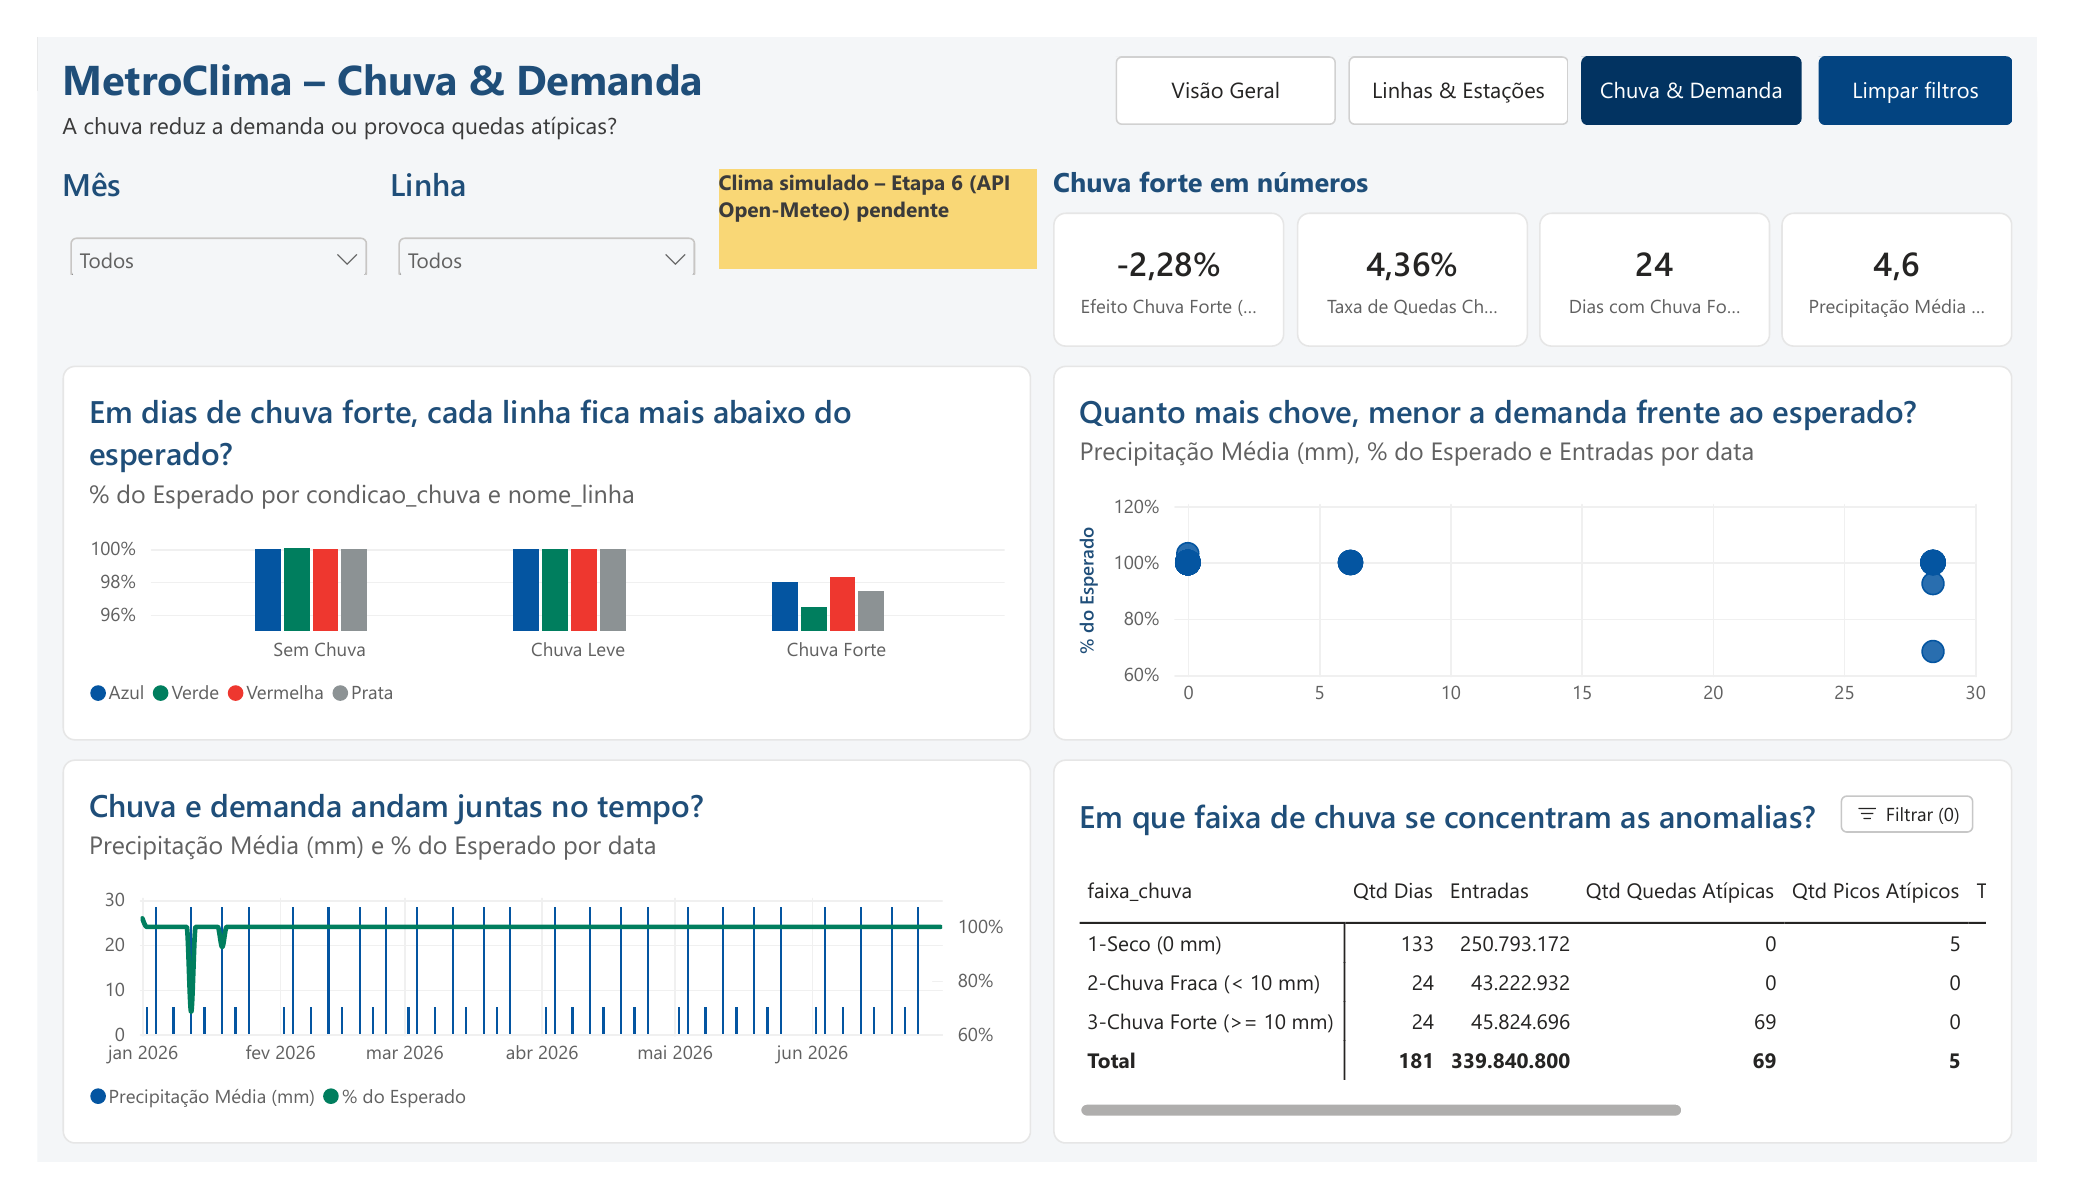

What the dashboard file says about the page in this screenshot:
{"tool":"powerbi","page":{"name":"Chuva & Demanda","canvas":[1280,720],"ordinal":2},"visuals":[{"type":"textbox","box":[16,8,640,40],"z":0},{"type":"textbox","box":[16,46,640,28],"z":1000},{"type":"pageNavigator","box":[690,12,440,44],"z":2000},{"type":"actionButton","box":[1140,12,124,44],"z":3000},{"type":"slicer","title":"Mês","fields":{"Values":["dim_tempo.nome_mes"]},"box":[16,80,200,72],"z":4000},{"type":"slicer","title":"Linha","fields":{"Values":["dim_estacao.nome_linha"]},"box":[226,80,200,72],"z":5000},{"type":"textbox","box":[436,84,204,64],"z":6000},{"type":"textbox","box":[650,80,614,30],"z":7000},{"type":"card","fields":{"Values":["_Medidas.Efeito Chuva Forte (p.p.)"]},"box":[650,112,148,86],"z":8000},{"type":"card","fields":{"Values":["_Medidas.Taxa de Quedas Chuva Forte %"]},"box":[806,112,148,86],"z":9000},{"type":"card","fields":{"Values":["_Medidas.Dias com Chuva Forte"]},"box":[961,112,148,86],"z":10000},{"type":"card","fields":{"Values":["_Medidas.Precipitação Média (mm)"]},"box":[1116,112,148,86],"z":11000},{"type":"clusteredColumnChart","title":"Em dias de chuva forte, cada linha fica mais abaixo do esperado?","fields":{"Category":["dim_clima.condicao_chuva"],"Series":["dim_estacao.nome_linha"],"Y":["_Medidas.% do Esperado"]},"box":[16,210,620,240],"z":12000},{"type":"scatterChart","title":"Quanto mais chove, menor a demanda frente ao esperado?","fields":{"Category":["dim_tempo.data"],"Size":["_Medidas.Entradas"],"X":["_Medidas.Precipitação Média (mm)"],"Y":["_Medidas.% do Esperado"]},"box":[650,210,614,240],"z":13000},{"type":"lineClusteredColumnComboChart","title":"Chuva e demanda andam juntas no tempo?","fields":{"Category":["dim_tempo.data"],"Y":["_Medidas.Precipitação Média (mm)"],"Y2":["_Medidas.% do Esperado"]},"box":[16,462,620,246],"z":14000},{"type":"pivotTable","title":"Em que faixa de chuva se concentram as anomalias?","fields":{"Rows":["dim_clima.faixa_chuva"],"Values":["_Medidas.Qtd Dias","_Medidas.Entradas","_Medidas.Qtd Quedas Atípicas","_Medidas.Qtd Picos Atípicos","_Medidas.Taxa de Quedas %","_Medidas.% do Esperado"]},"box":[650,462,614,246],"z":15000}]}

Visuals, with their boxes on the page's 1280x720 design canvas (x1, y1, x2, y2). These are canvas units, not pixel positions in the 2075x1200 screenshot, which may show the page scaled, cropped or inside an application window:
textbox: 16 8 656 48
textbox: 16 46 656 74
pageNavigator: 690 12 1130 56
actionButton: 1140 12 1264 56
"Mês" slicer: 16 80 216 152
"Linha" slicer: 226 80 426 152
textbox: 436 84 640 148
textbox: 650 80 1264 110
card - _Medidas.Efeito Chuva Forte (p.p.): 650 112 798 198
card - _Medidas.Taxa de Quedas Chuva Forte %: 806 112 954 198
card - _Medidas.Dias com Chuva Forte: 961 112 1109 198
card - _Medidas.Precipitação Média (mm): 1116 112 1264 198
"Em dias de chuva forte, cada linha fica mais abaixo do esperado?" clusteredColumnChart: 16 210 636 450
"Quanto mais chove, menor a demanda frente ao esperado?" scatterChart: 650 210 1264 450
"Chuva e demanda andam juntas no tempo?" lineClusteredColumnComboChart: 16 462 636 708
"Em que faixa de chuva se concentram as anomalias?" pivotTable: 650 462 1264 708
